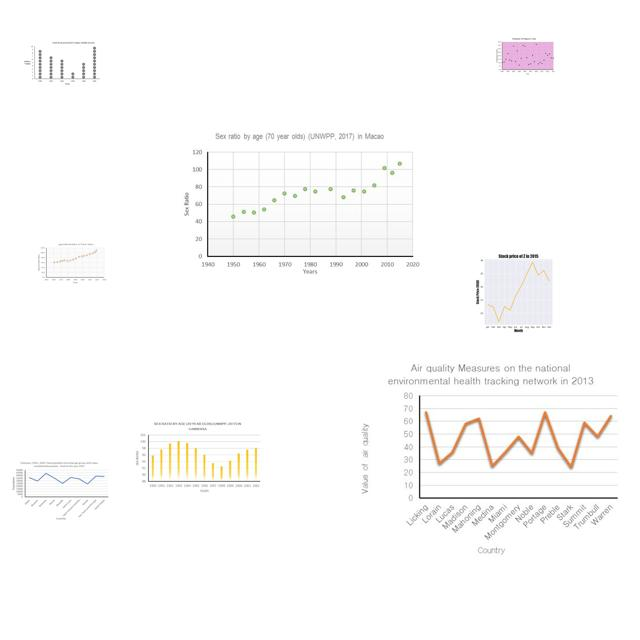Graph: (352, 359, 630, 557), (177, 127, 424, 275), (455, 249, 579, 334), (132, 419, 262, 496), (9, 460, 110, 520), (21, 40, 102, 87), (36, 242, 107, 284), (495, 37, 556, 76)
